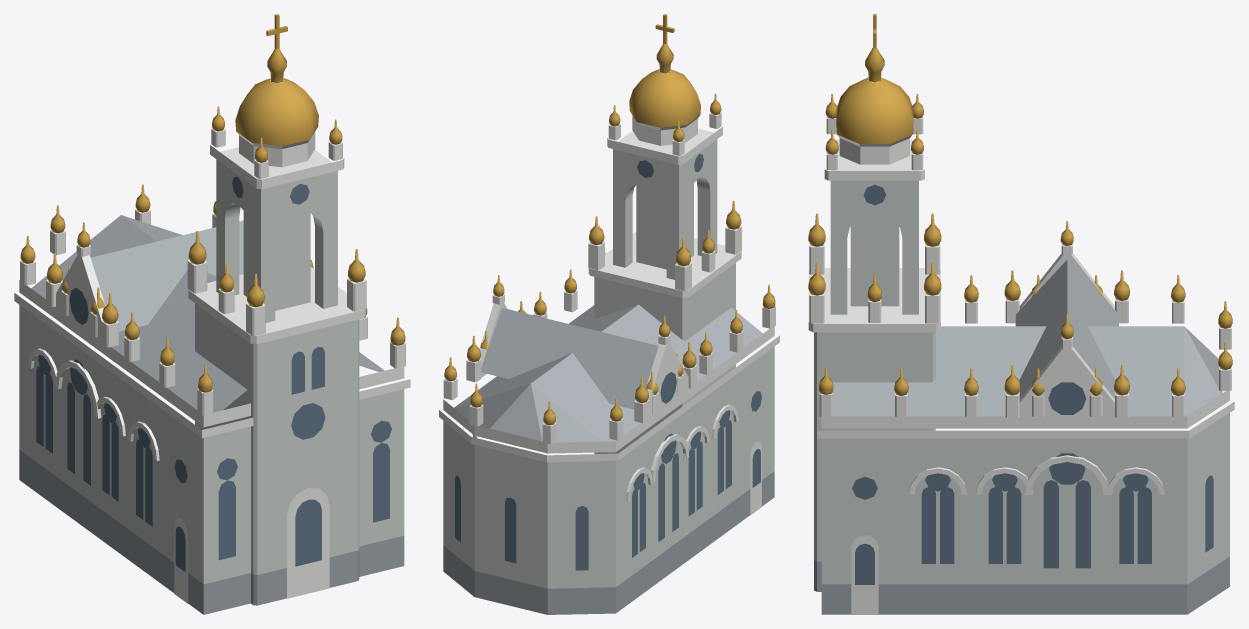
Rendered from istanbul-bulgarian-church.glb.
3 renders of one model, left to right at view 1: azimuth 30°, elevation 25°; view 2: azimuth 150°, elevation 25°; view 3: azimuth 270°, elevation 25°, orthographic. The views are drawn at different scales.
Visible parts, largest first — view 1: Bulgarian St. Stephen Church; view 2: Bulgarian St. Stephen Church; view 3: Bulgarian St. Stephen Church.
Part boxes in pixels (x1,y1,x2,y2): Bulgarian St. Stephen Church: [14, 14, 410, 614]; Bulgarian St. Stephen Church: [439, 14, 779, 614]; Bulgarian St. Stephen Church: [808, 14, 1234, 614].
Size of the model in its own units: 15.91 by 40 by 28.02.
